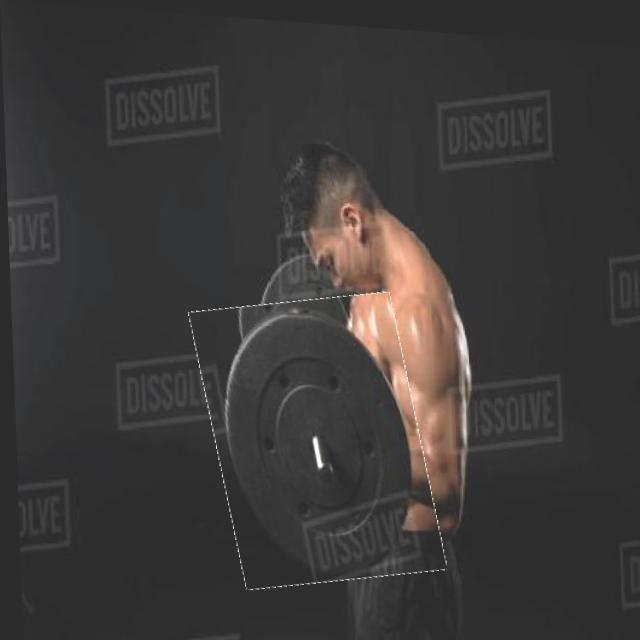barbell: (198, 284, 434, 591)
